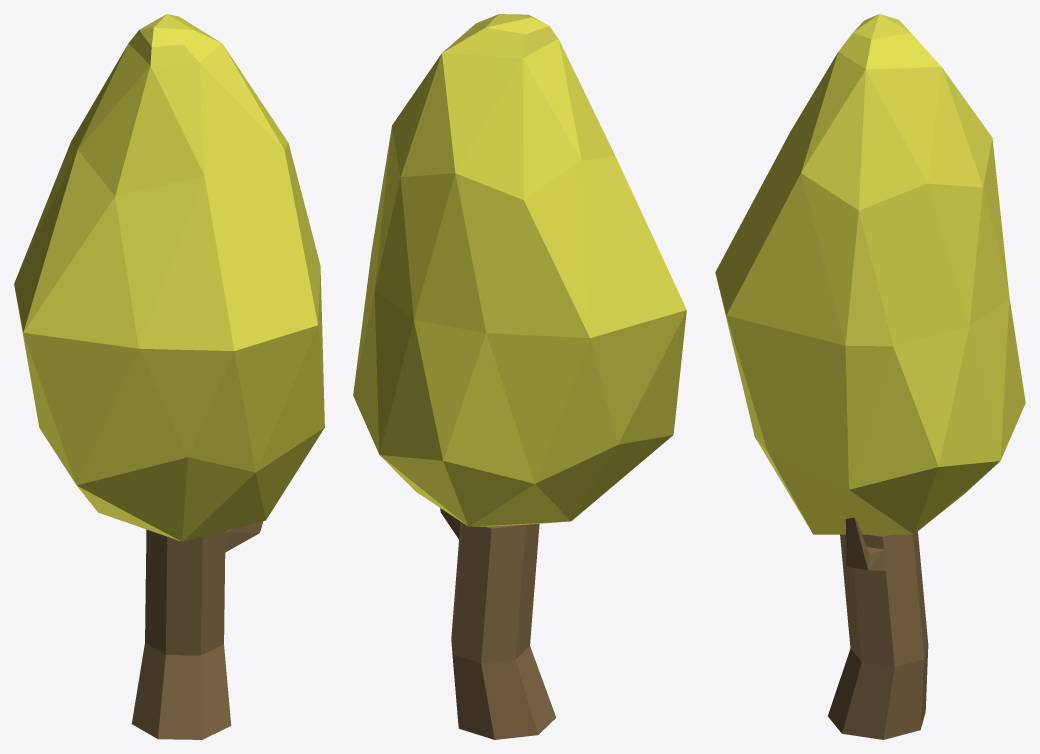
File: tree.dae
3 renders of one model, left to right at view 1: azimuth 30°, elevation 25°; view 2: azimuth 150°, elevation 25°; view 3: azimuth 270°, elevation 25°, orthographic. The views are drawn at different scales.
Parts seen in each view (by area): view 1: Icosphere; view 2: Icosphere; view 3: Icosphere.
Part boxes in pixels (x1,y1,x2,y2): Icosphere: (14,14,324,739); Icosphere: (353,14,686,739); Icosphere: (715,14,1025,739).
Size of the model in its own units: 2.01 by 1.87 by 4.59.
1 material, 1 textured.
